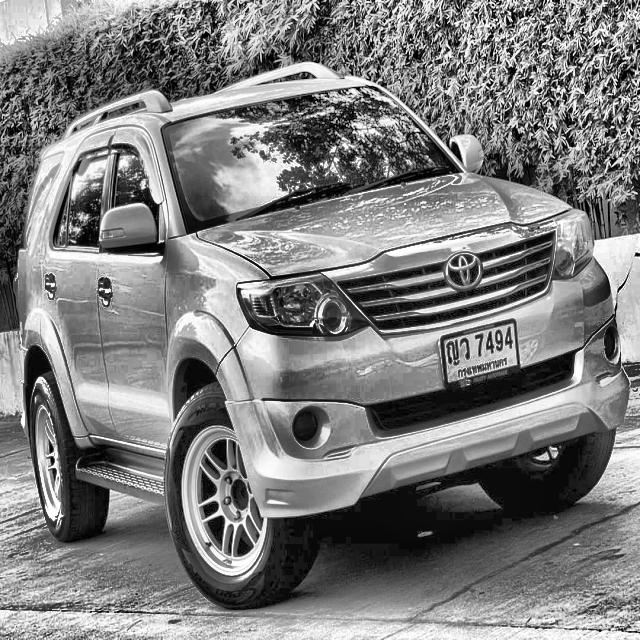license-plate: (442, 316, 520, 400)
